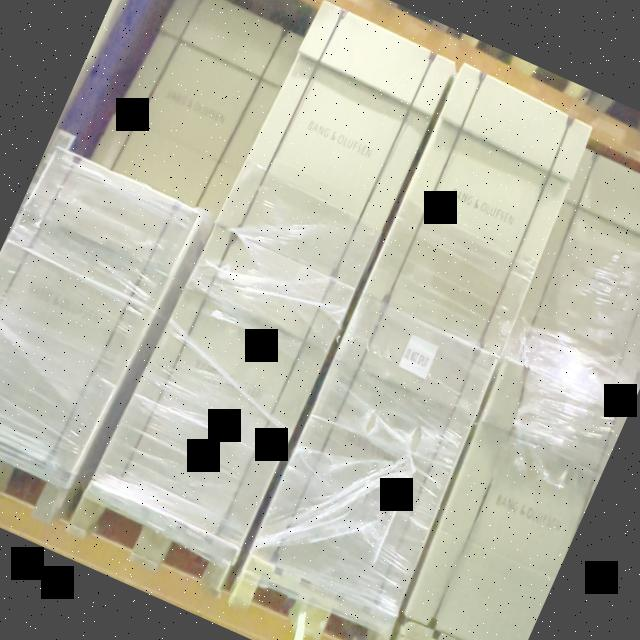box: (101, 226, 358, 534), (250, 300, 503, 606), (223, 0, 458, 289), (357, 70, 589, 352), (502, 158, 640, 397)
